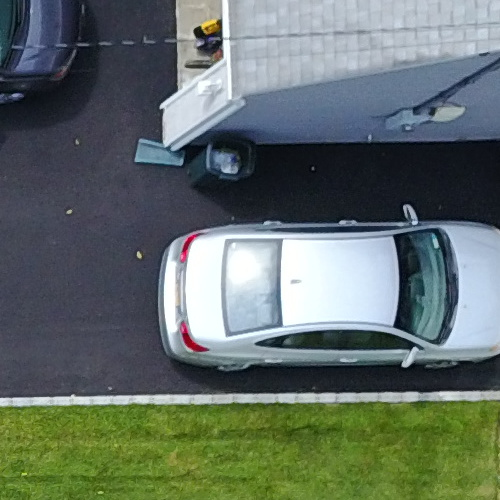trash bin: (196, 124, 269, 213)
